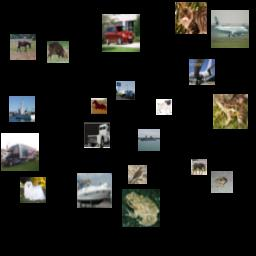airplane: (211, 10, 249, 48), (189, 59, 215, 85)
automobile: (102, 14, 140, 52)
bird: (128, 165, 147, 184)
cat: (175, 2, 207, 34)
deer: (47, 41, 69, 63)
dog: (20, 177, 46, 203), (156, 99, 172, 115)
frog: (122, 189, 160, 227), (213, 94, 248, 129), (211, 171, 233, 193)
ship: (77, 173, 112, 208), (9, 96, 35, 122), (138, 129, 160, 151)
truck: (1, 133, 39, 171), (84, 122, 110, 148), (116, 81, 135, 100)
